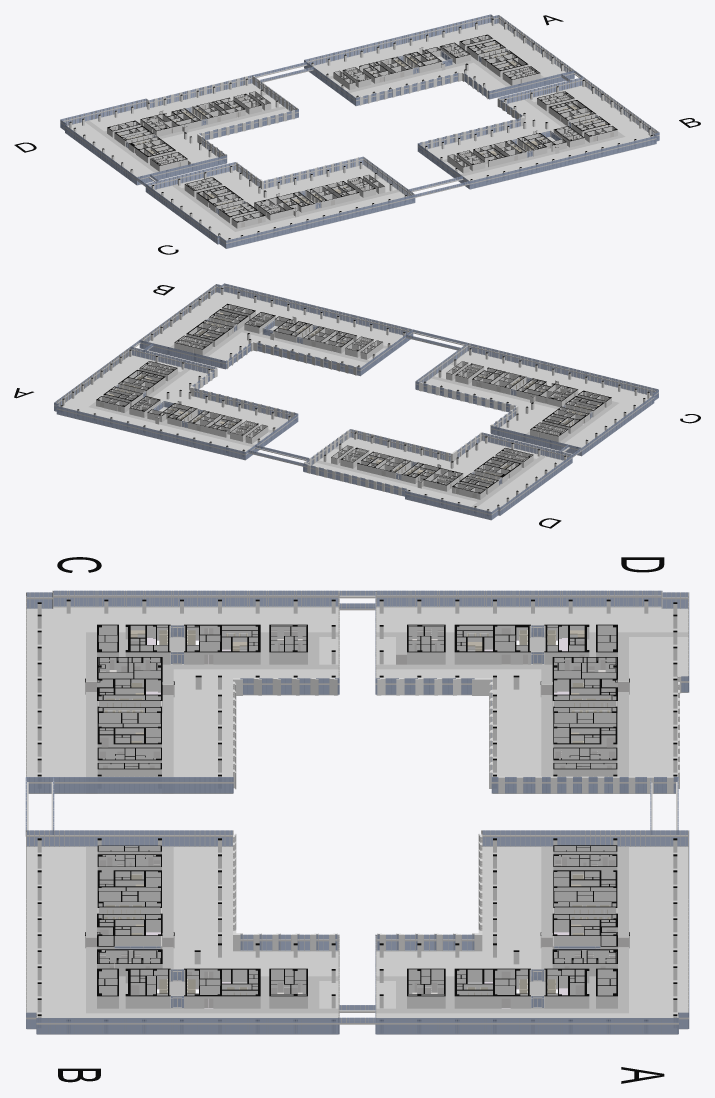
3 views of the same model, one above another, from view 1: azimuth 30°, elevation 25°; view 2: azimuth 150°, elevation 25°; view 3: azimuth 270°, elevation 25° (orthographic). The views are drawn at different scales.
Parts seen in each view (by area): view 1: 11F-Floor, 11F-Window-out, 11F-Wall, 11F-Wall-out, 11F-Pillar, 11F-Door, 11F-Elevator, 11F-toiletdoor, 11F-GlassDoor; view 2: 11F-Floor, 11F-Window-out, 11F-Wall, 11F-Wall-out, 11F-Pillar, 11F-Door, 11F-Elevator, 11F-toiletdoor, 11F-GlassDoor; view 3: 11F-Floor, 11F-Wall, 11F-Window-out, 11F-Pillar, 11F-Wall-out, 11F-Door, 11F-Elevator, 11F-GlassDoor, 11F-toiletdoor, 11F-text.
Part boxes in pixels (<box>): 11F-Floor: <box>67,22,654,248</box>; 11F-Window-out: <box>60,14,659,248</box>; 11F-Wall: <box>107,34,617,228</box>; 11F-Wall-out: <box>147,71,525,189</box>; 11F-Pillar: <box>69,18,653,244</box>; 11F-Door: <box>111,37,613,227</box>; 11F-Elevator: <box>127,48,597,210</box>; 11F-toiletdoor: <box>149,46,576,212</box>; 11F-GlassDoor: <box>126,48,598,214</box>; 11F-Floor: <box>55,292,651,520</box>; 11F-Window-out: <box>54,283,658,520</box>; 11F-Wall: <box>96,303,611,499</box>; 11F-Wall-out: <box>189,341,518,495</box>; 11F-Pillar: <box>60,288,649,515</box>; 11F-Door: <box>100,306,607,498</box>; 11F-Elevator: <box>116,317,591,481</box>; 11F-toiletdoor: <box>137,315,569,483</box>; 11F-GlassDoor: <box>115,317,592,485</box>; 11F-Floor: <box>26,607,688,1034</box>; 11F-Wall: <box>85,624,629,1008</box>; 11F-Window-out: <box>25,590,689,1034</box>; 11F-Pillar: <box>37,599,677,1032</box>; 11F-Wall-out: <box>233,676,681,951</box>; 11F-Door: <box>86,628,628,1007</box>; 11F-Elevator: <box>104,630,610,993</box>; 11F-GlassDoor: <box>97,625,617,1008</box>; 11F-toiletdoor: <box>99,628,615,993</box>; 11F-text: <box>57,557,664,1083</box>.
Size of the model in its own units: 280 by 5.95 by 149.
